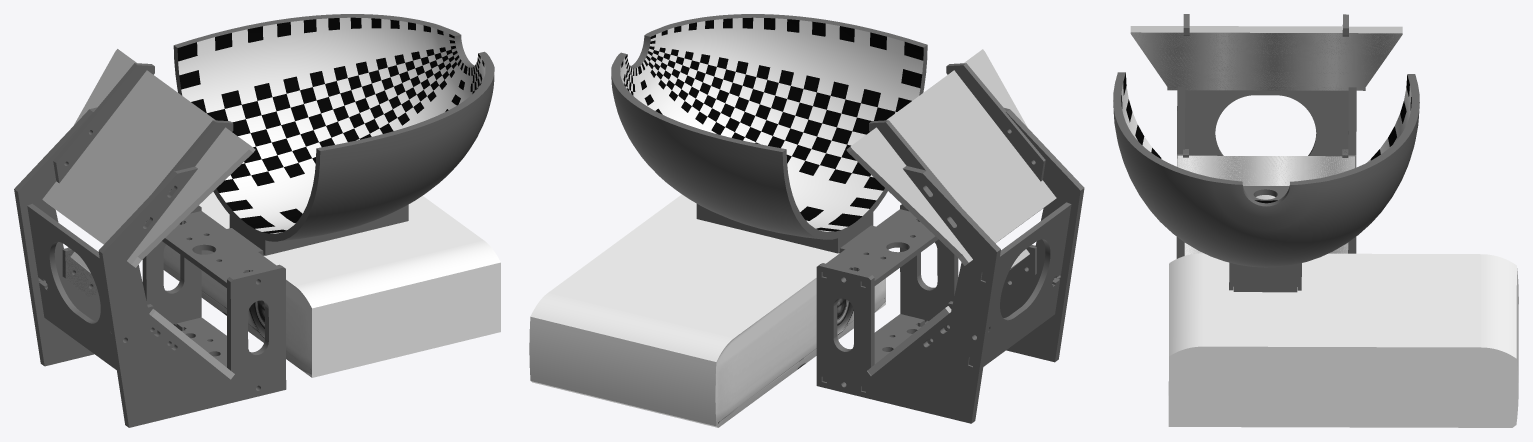
The model's file is Bowl_Arena.dae.
3 renders of one model, left to right at view 1: azimuth 30°, elevation 25°; view 2: azimuth 150°, elevation 25°; view 3: azimuth 270°, elevation 25°, orthographic. The views are drawn at different scales.
Visible parts, largest first — view 1: Component_11 (×3), Component_17 (×2), Component_31 (×2), Component_29, Component_33 (×2), Component_25, Component_32 (×2), Component_34, Component_30, Component_35; view 2: Component_17 (×3), Component_11 (×3), Component_31 (×2), Component_29, Component_33 (×2), Component_25, Component_32 (×2), Component_34, Component_30, Component_35; view 3: Component_17 (×2), Component_11, Component_29 (×2), Component_33, Component_30, Component_31 (×2), Component_25.
Boxes of the visible parts, left/top/right/bottom form: Component_11 (×3): left=173, top=14, right=494, bottom=255; Component_17 (×2): left=163, top=192, right=500, bottom=377; Component_31 (×2): left=14, top=107, right=286, bottom=427; Component_29: left=42, top=49, right=255, bottom=267; Component_33 (×2): left=27, top=203, right=132, bottom=370; Component_25: left=162, top=211, right=280, bottom=289; Component_32 (×2): left=53, top=63, right=233, bottom=226; Component_34: left=176, top=317, right=280, bottom=396; Component_30: left=68, top=247, right=234, bottom=379; Component_35: left=62, top=247, right=98, bottom=297; Component_17 (×3): left=529, top=194, right=885, bottom=427; Component_11 (×3): left=611, top=14, right=927, bottom=253; Component_31 (×2): left=816, top=108, right=1084, bottom=423; Component_29: left=846, top=49, right=1056, bottom=265; Component_33 (×2): left=968, top=202, right=1071, bottom=366; Component_25: left=822, top=209, right=938, bottom=286; Component_32 (×2): left=869, top=63, right=1045, bottom=207; Component_34: left=822, top=314, right=924, bottom=391; Component_30: left=867, top=249, right=1029, bottom=375; Component_35: left=1002, top=245, right=1036, bottom=293; Component_17 (×2): left=1168, top=253, right=1518, bottom=427; Component_11: left=1113, top=72, right=1419, bottom=290; Component_29 (×2): left=1130, top=26, right=1402, bottom=90; Component_33: left=1185, top=90, right=1348, bottom=156; Component_30: left=1177, top=155, right=1354, bottom=255; Component_31 (×2): left=1176, top=86, right=1356, bottom=258; Component_25: left=1233, top=186, right=1297, bottom=292.
Size of the model in its own units: 9.47 by 7.92 by 6.15.
Materials: 9 (2 with a texture image).
